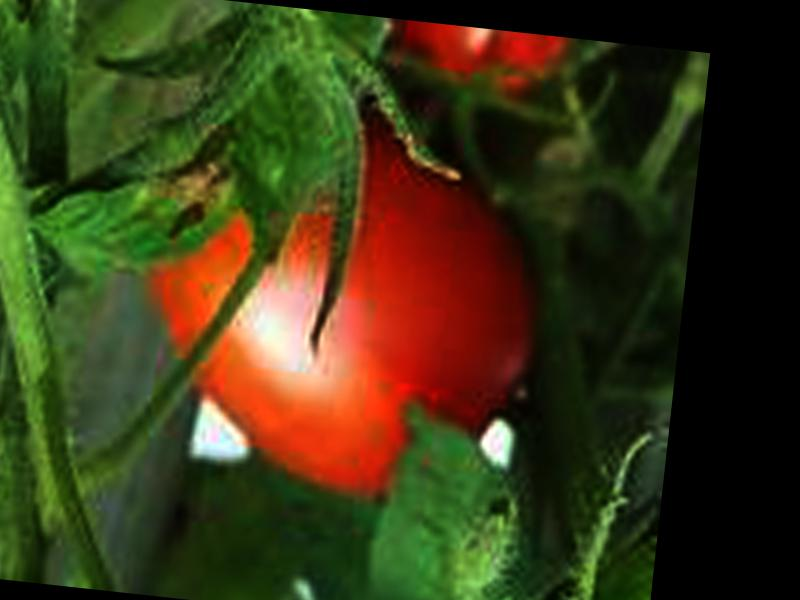Tomato: (135, 109, 553, 515)
